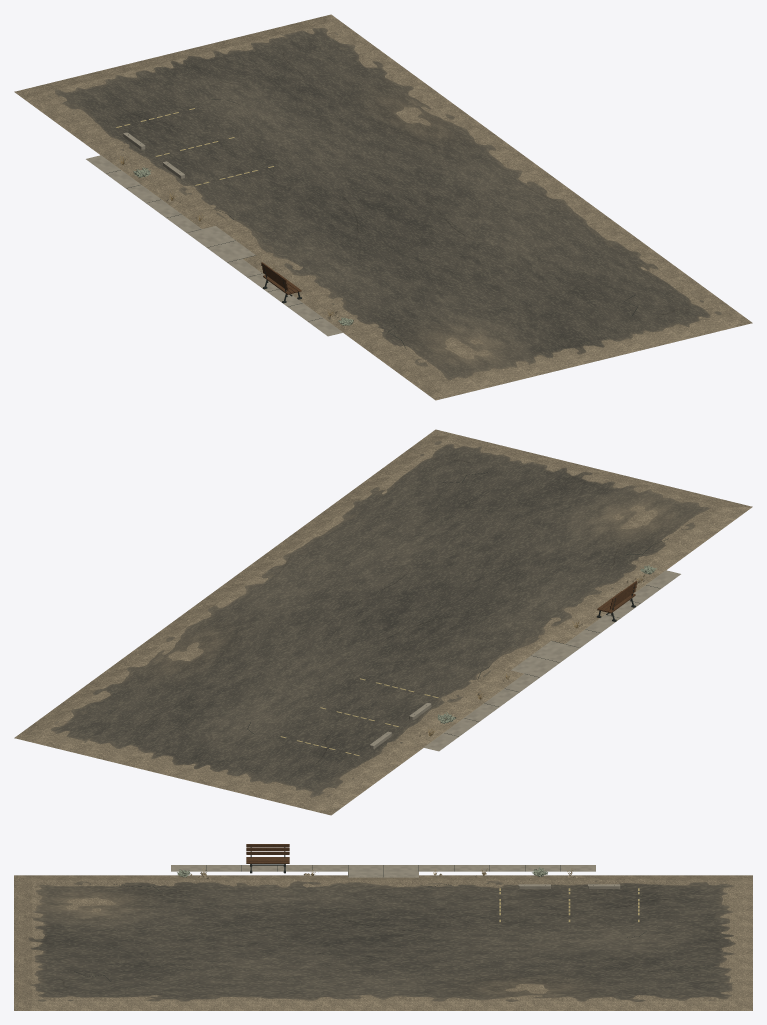
File: SM_Mesa_Parking_LOD1.fbx
3 views of the same model, one above another, from view 1: azimuth 30°, elevation 25°; view 2: azimuth 150°, elevation 25°; view 3: azimuth 270°, elevation 25° (orthographic). The views are drawn at different scales.
Parts seen in each view (by area): view 1: SM_Mesa_Parking_LOD1; view 2: SM_Mesa_Parking_LOD1; view 3: SM_Mesa_Parking_LOD1.
Boxes of the visible parts, x1,y1,x2,y2 form: SM_Mesa_Parking_LOD1: (14, 14, 752, 400); SM_Mesa_Parking_LOD1: (14, 429, 752, 815); SM_Mesa_Parking_LOD1: (14, 844, 752, 1010).
Bounding box in the file's own units: 14.7 × 32 × 1.14.
